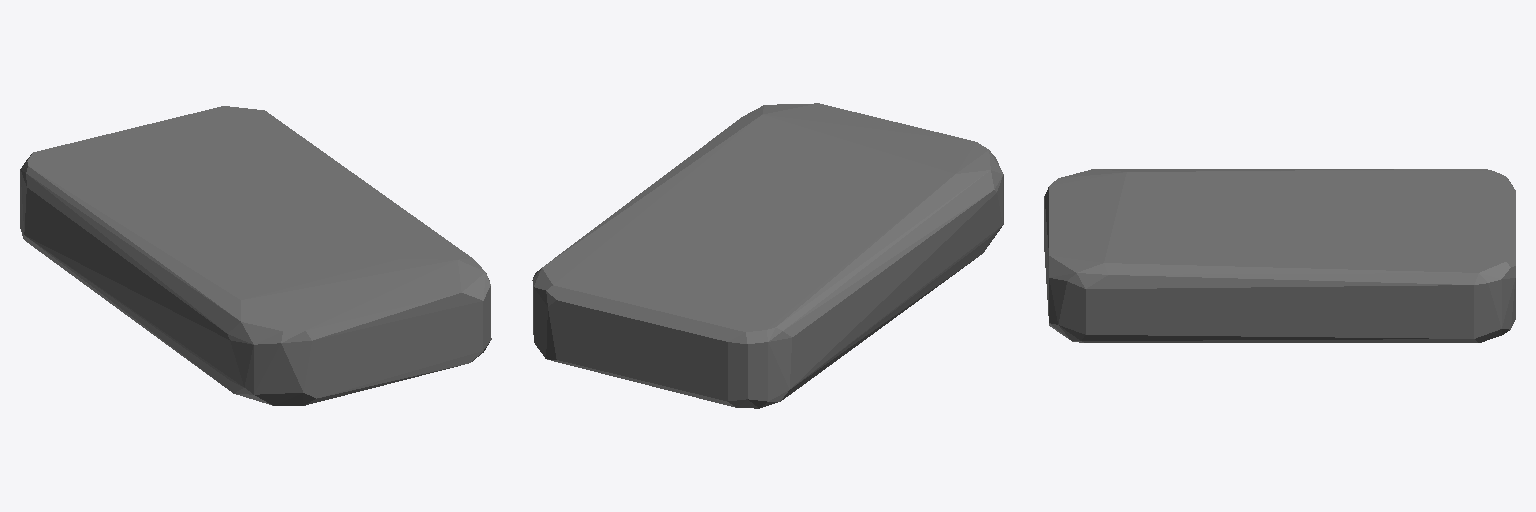
robot.urdf — cellphone_032:
<?xml version="1.0" ?>
<robot name="cellphone_032">
  <material name="color">
    <color rgba=".5 .5 .5 1"/>
  </material>

  <link name="base_link">
    <contact>
      <lateral_friction value="1.0"/>
      <rolling_friction value="0.001"/>
      <spinning_friction value="0.001"/>
      <inertia_scaling value="1.0"/>
    </contact>
    <inertial>
      <origin rpy="0 0 0" xyz="-7.91711e-05 0.000421477 -0.000444697"/>
       <mass value="0.1"/>
       <inertia ixx="1" ixy="0" ixz="0" iyy="1" iyz="0" izz="1"/>
    </inertial>

    <visual>
      <origin rpy="0 0 0" xyz="0 0 0"/>
      <geometry>
        <mesh filename="cellphone_032_vhacd_0_of_1.obj" scale="1 1 1"/>
      </geometry>
      <material name="color"/>
    </visual>

    <collision>
      <origin rpy="0 0 0" xyz="0 0 0"/>
      <geometry>
        <mesh filename="cellphone_032_vhacd_0_of_1.obj" scale="1 1 1"/>
      </geometry>
    </collision>

  </link>
</robot>

--- Facts derived from the render (not from the file) ---
3 views of the same robot in one strip: view 1: azimuth 30°, elevation 25°; view 2: azimuth 150°, elevation 25°; view 3: azimuth 270°, elevation 25° (orthographic).
Robot: cellphone_032 — 1 links, 0 joints (none); root link base_link; default pose: every joint at zero.
Visible links, largest first — view 1: base_link; view 2: base_link; view 3: base_link.
Boxes of the visible links, <box> form: base_link: <box>20,106,491,405</box>; base_link: <box>532,103,1003,408</box>; base_link: <box>1044,169,1515,342</box>.
Bounding box of the posed robot: 0.0626 × 0.1112 × 0.0205 m (x, y, z).
Meshes: 1 distinct files referenced, 1 mesh visuals loaded (1 OBJ).